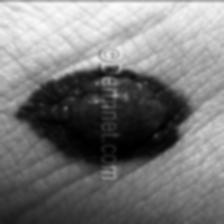Potentially Malignant Skin Tumors: (18, 66, 100, 160), (117, 68, 191, 164)
